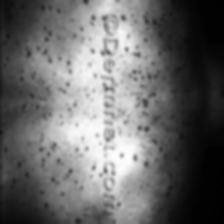Non-Cancerous Skin Condition: (0, 0, 102, 218), (120, 0, 182, 224)
